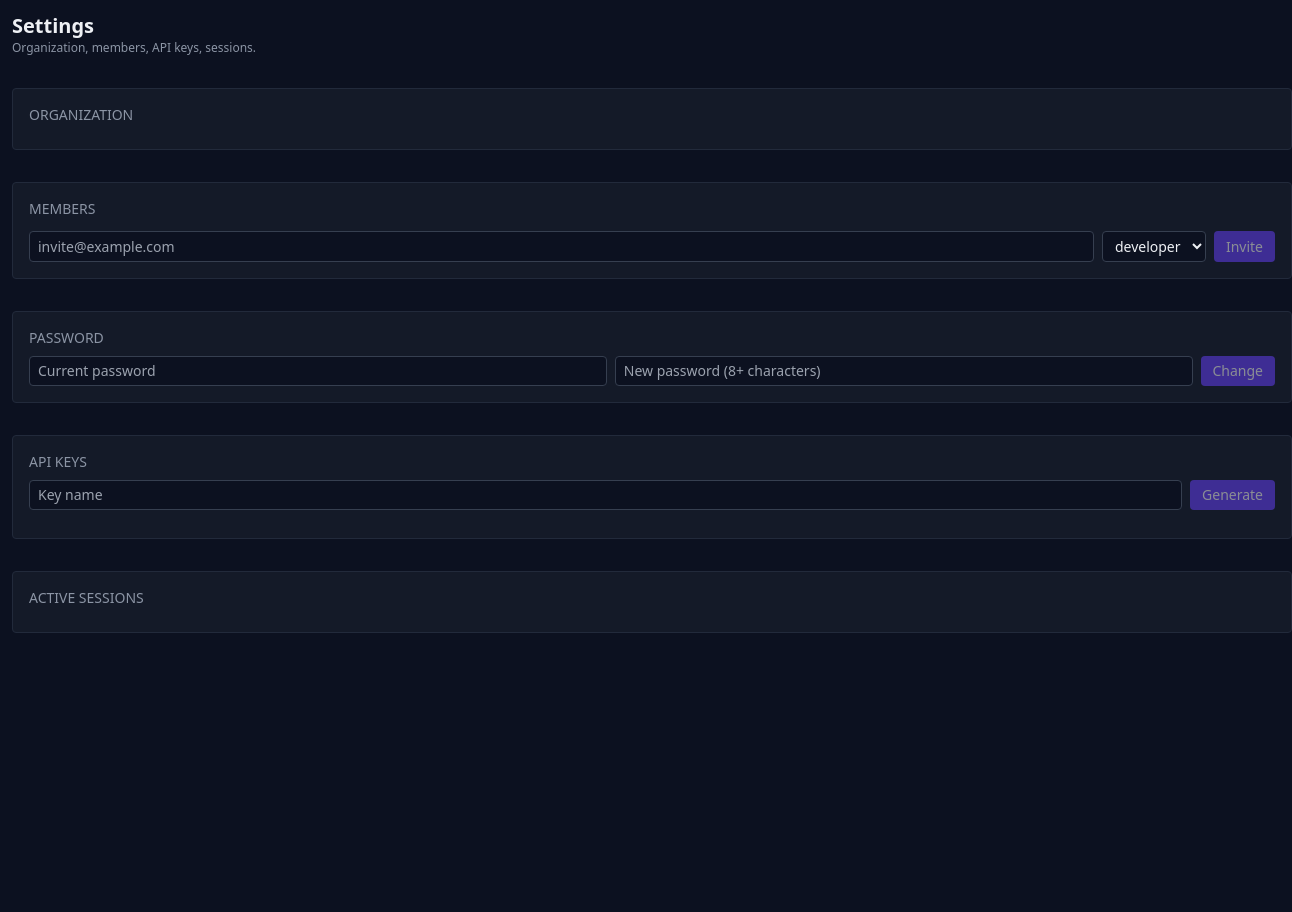
it: Settings invite › changes the password and keeps the new session
Type "old-pass" into the password field with placeholder "Current password".
click(318, 371); type("old-pass")  # box [29, 356, 607, 386]
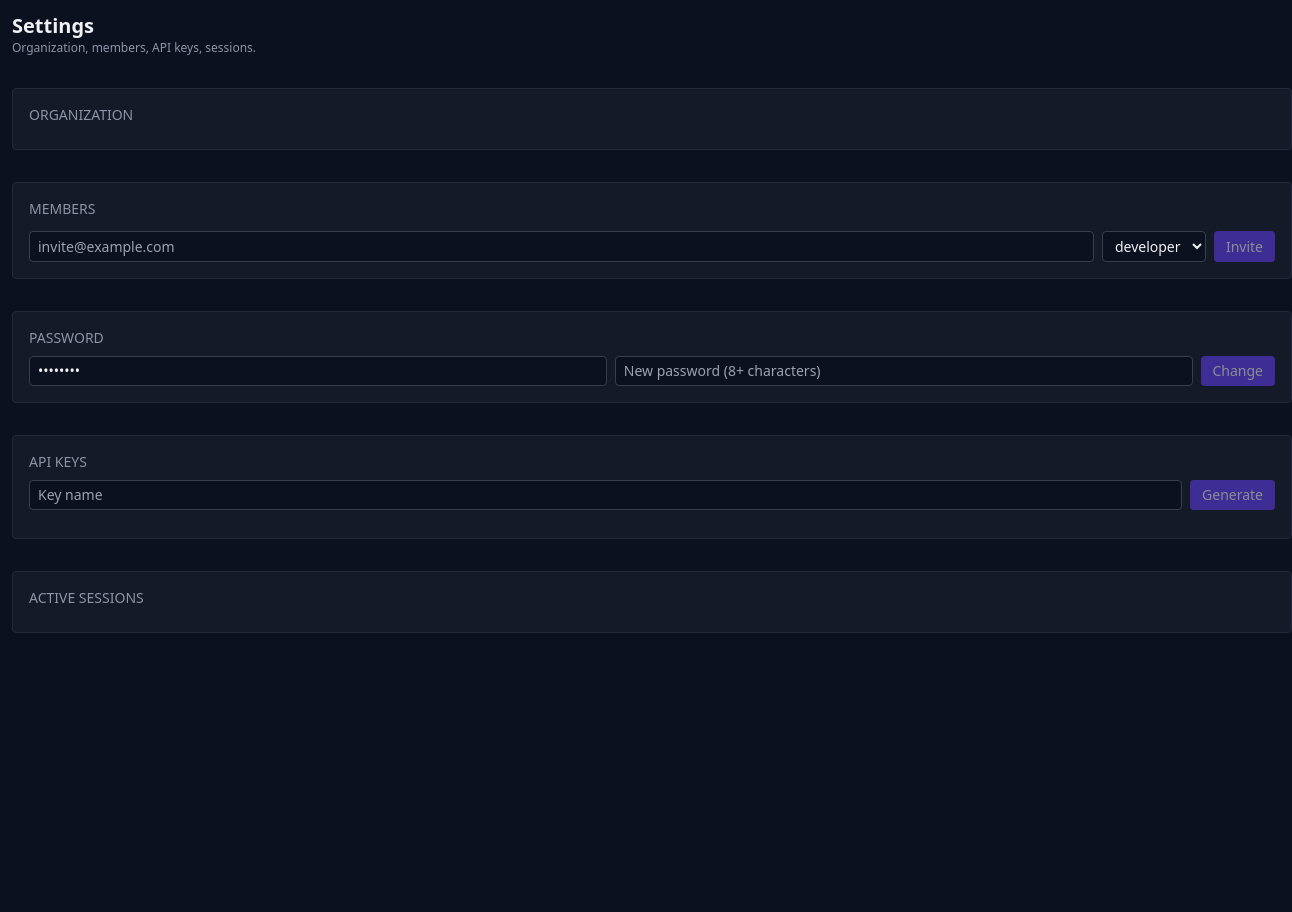
Type "New-pass1234" into the password field with placeholder "New password (8+ characters)".
click(904, 371); type("New-pass1234")  # box [615, 356, 1193, 386]
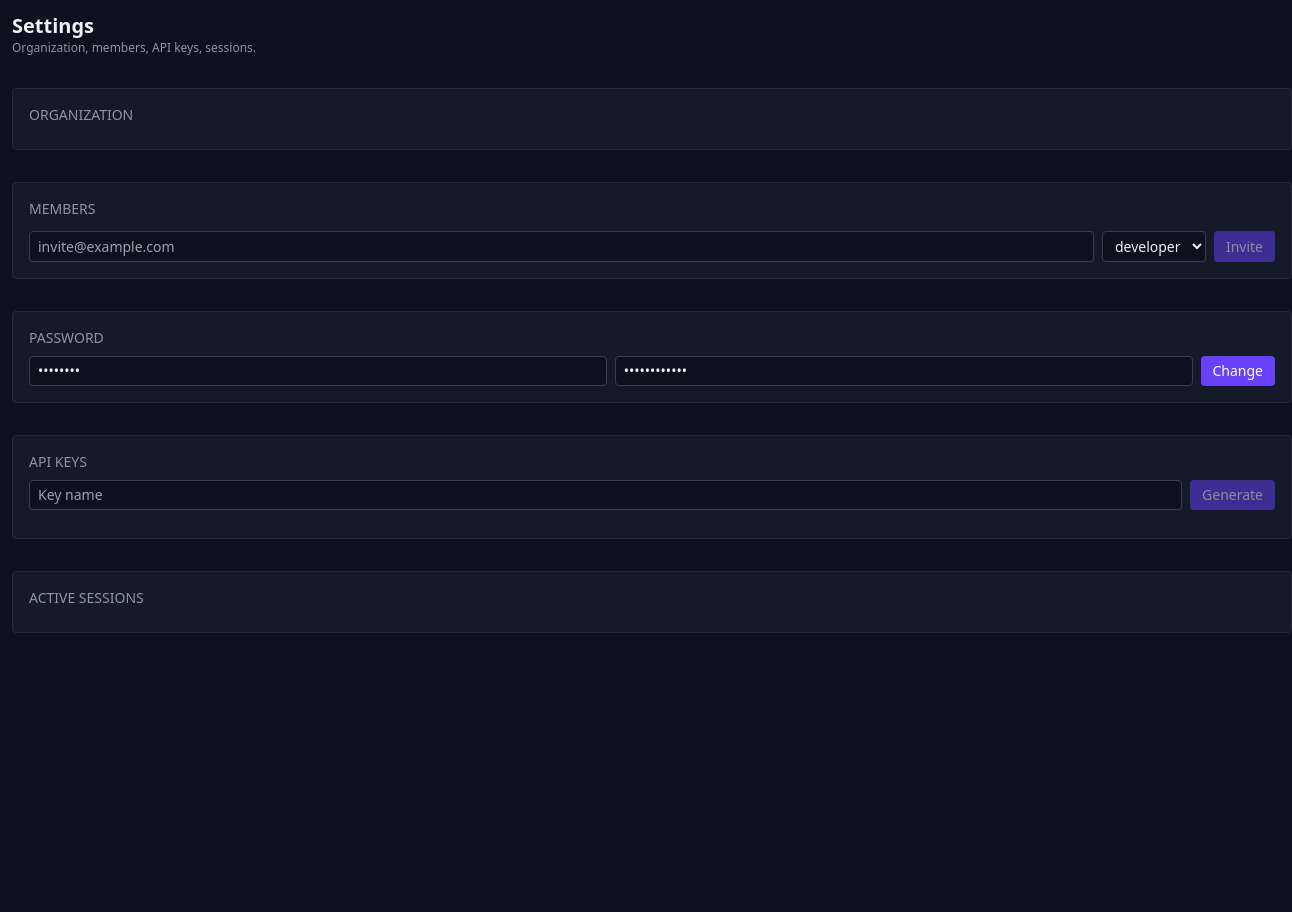
Click the button "Change".
click(1238, 371)  # box [1200, 356, 1275, 386]
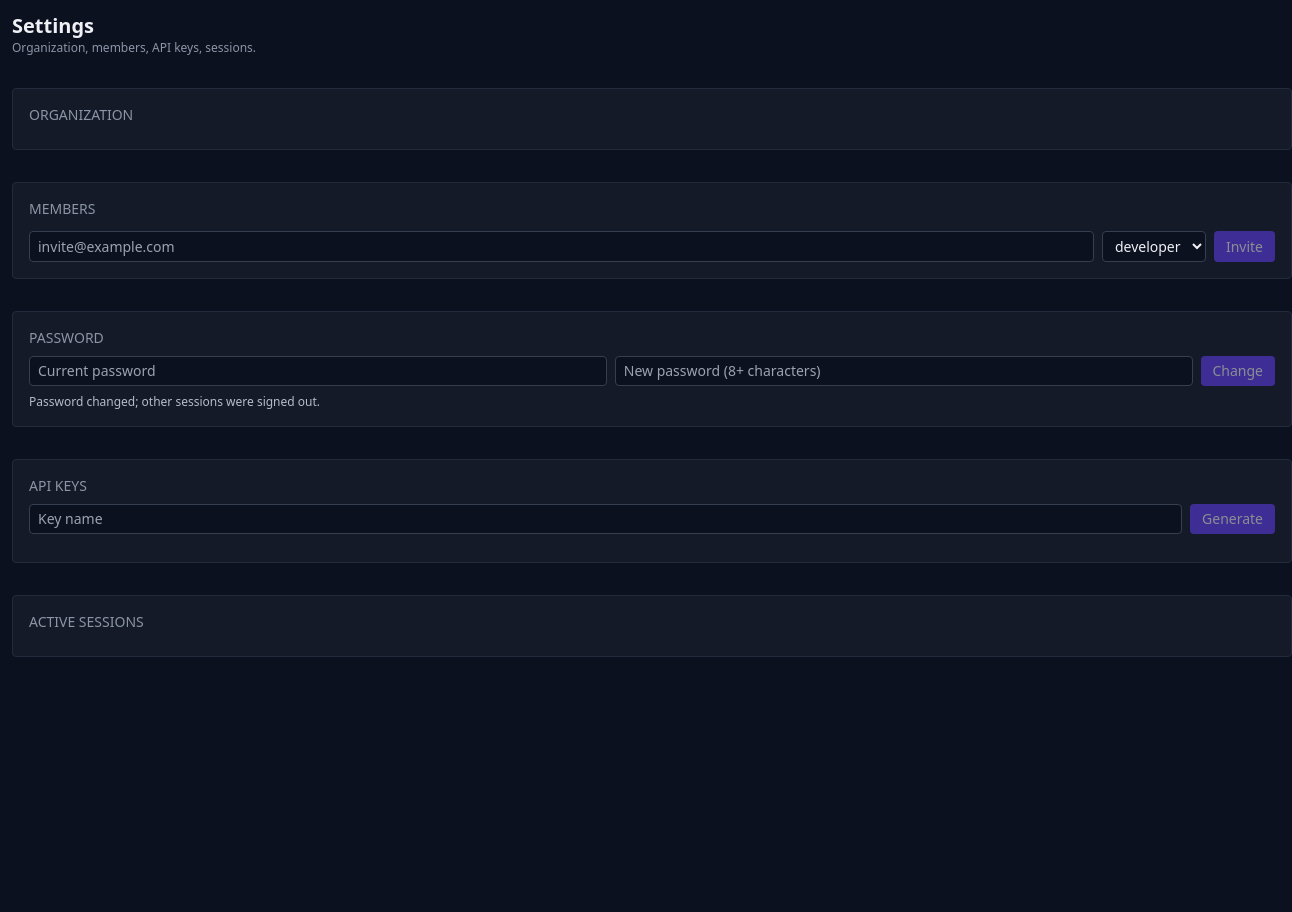
Result: the text "Password changed; other sessions were signed out." is shown at [29, 393, 320, 410]
